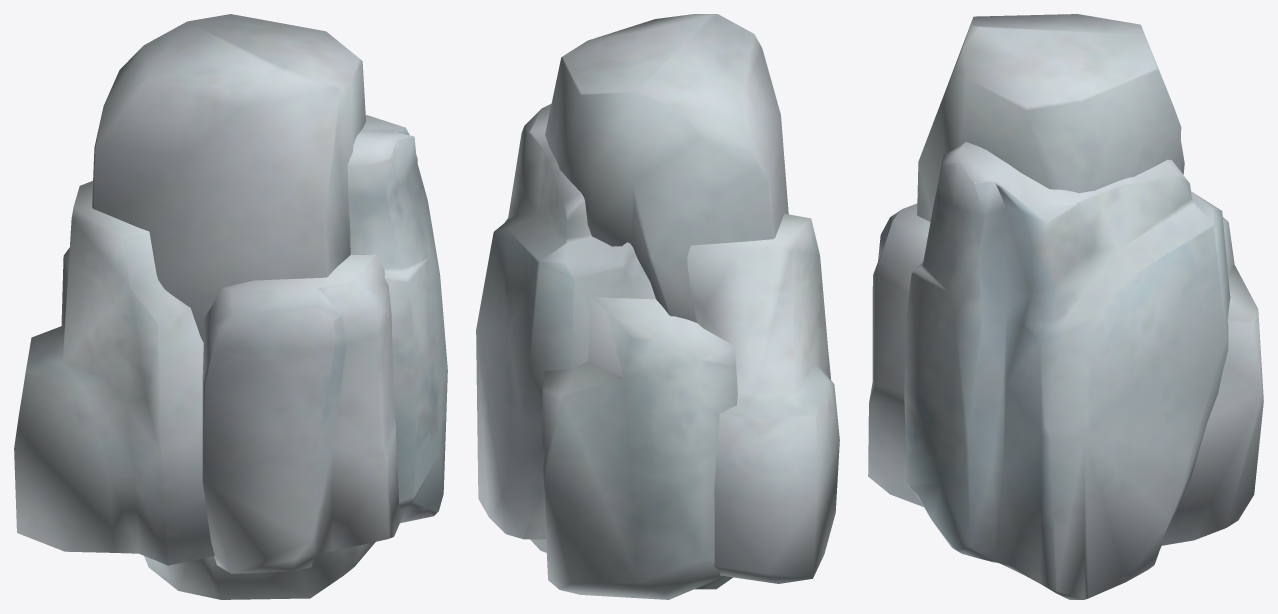
The model's file is P_RockSpire_RockClumpB05.obj.
3 views of the same model, side by side, from view 1: azimuth 30°, elevation 25°; view 2: azimuth 150°, elevation 25°; view 3: azimuth 270°, elevation 25° (orthographic). The views are drawn at different scales.
Size of the model in its own units: 12.53 by 16.69 by 11.58.
